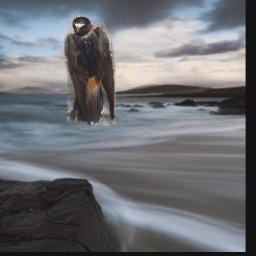Swallow: (66, 15, 117, 125)
